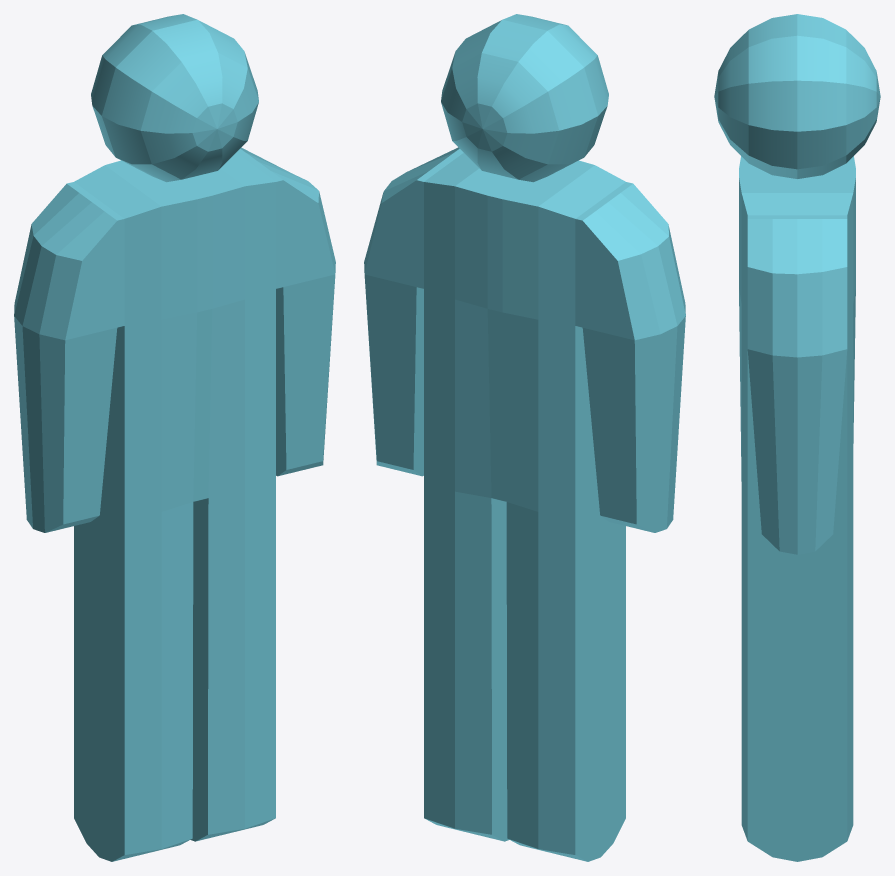
The model's file is Drop_Off_Hologram.fbx.
The picture shows the model from 3 angles, left to right: view 1: azimuth 30°, elevation 25°; view 2: azimuth 150°, elevation 25°; view 3: azimuth 270°, elevation 25°; orthographic projection.
Parts seen in each view (by area): view 1: Holo_Person; view 2: Holo_Person; view 3: Holo_Person.
Part boxes in pixels (x1,y1,x2,y2): Holo_Person: [14, 14, 335, 861]; Holo_Person: [364, 14, 685, 861]; Holo_Person: [714, 14, 880, 861].
Bounding box in the file's own units: 63.47 × 162 × 30.48.
